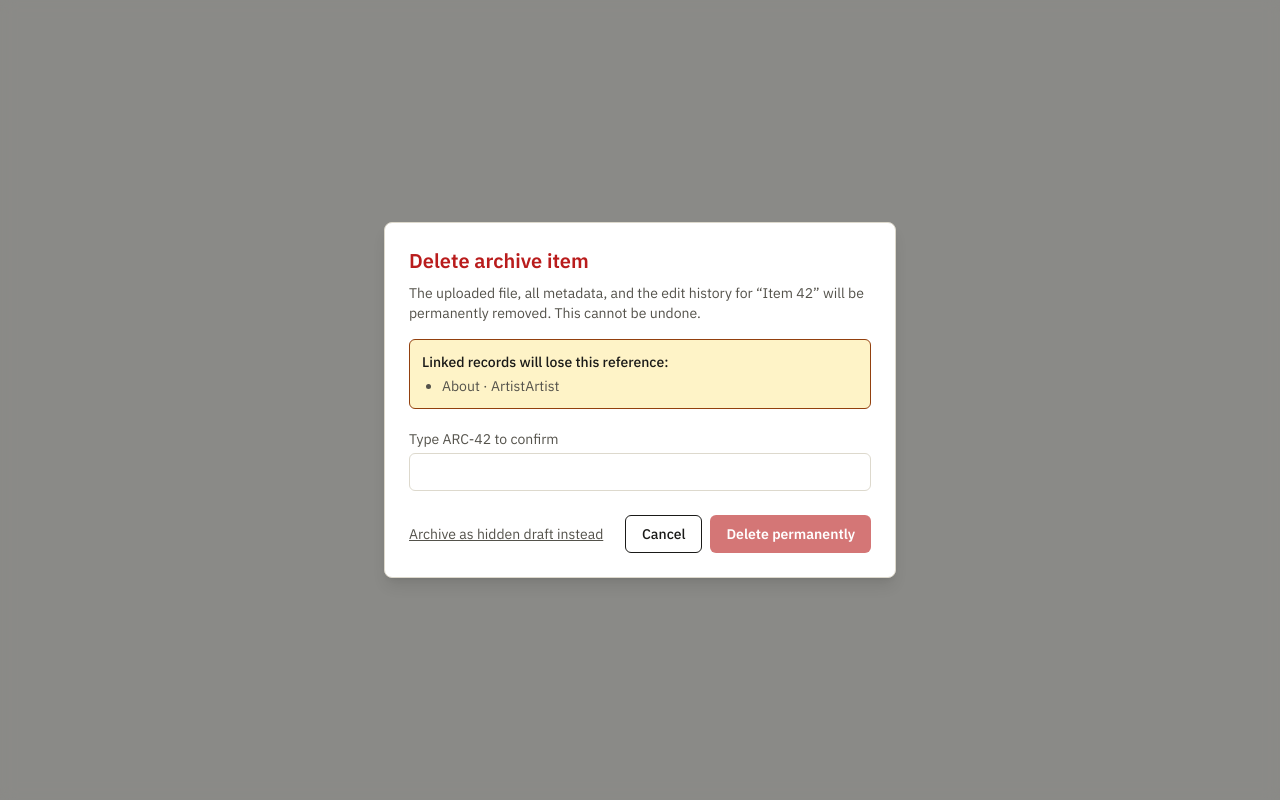
ArchiveDeleteDialog › disables the delete button until the exact legacy_ref is typed
Expected: the button with test id "delete-confirm-button" is disabled, [710, 515, 871, 553]
Step 1. Type "ARC-4" into the field with test id "delete-confirm-input" → (640, 472), box [409, 453, 871, 491]
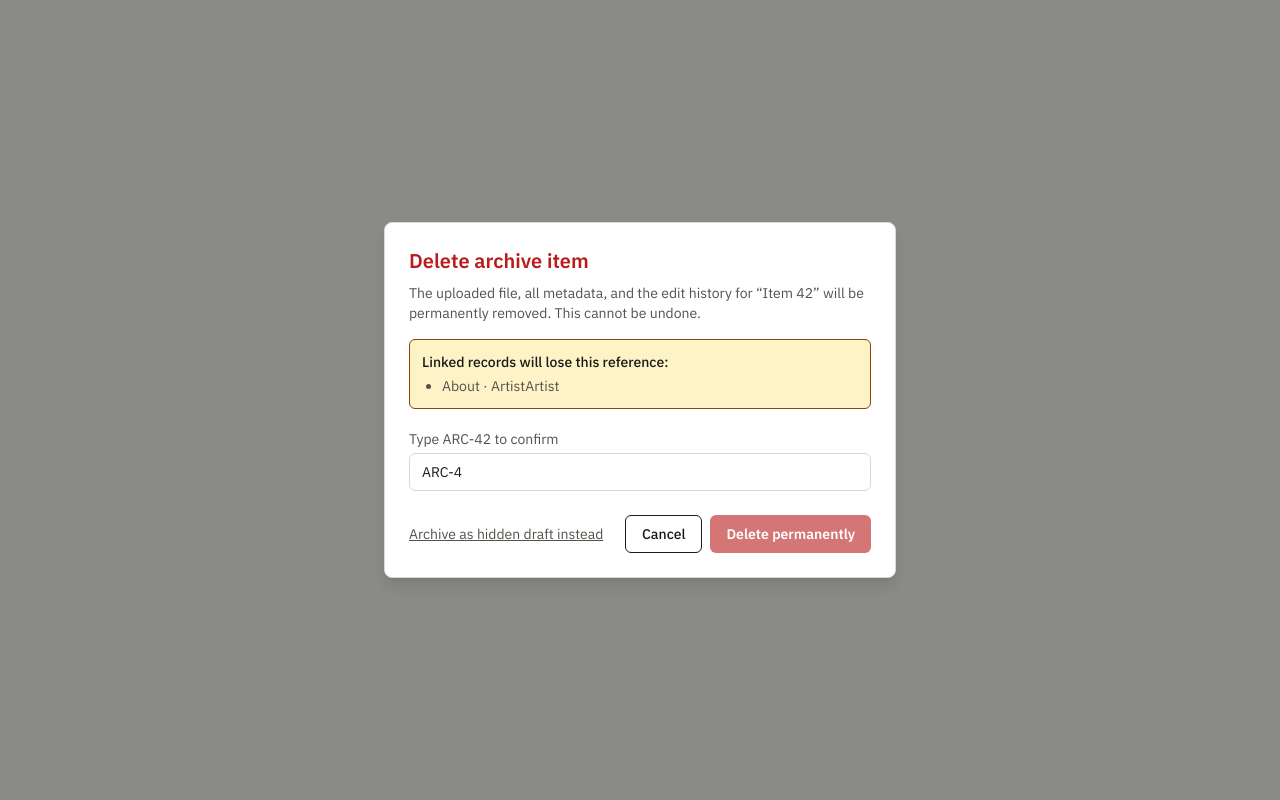
Expected: the button with test id "delete-confirm-button" is disabled, [710, 515, 871, 553]
Step 2. Replace the text in the field with test id "delete-confirm-input" with "ARC-42" → (640, 472), box [409, 453, 871, 491]
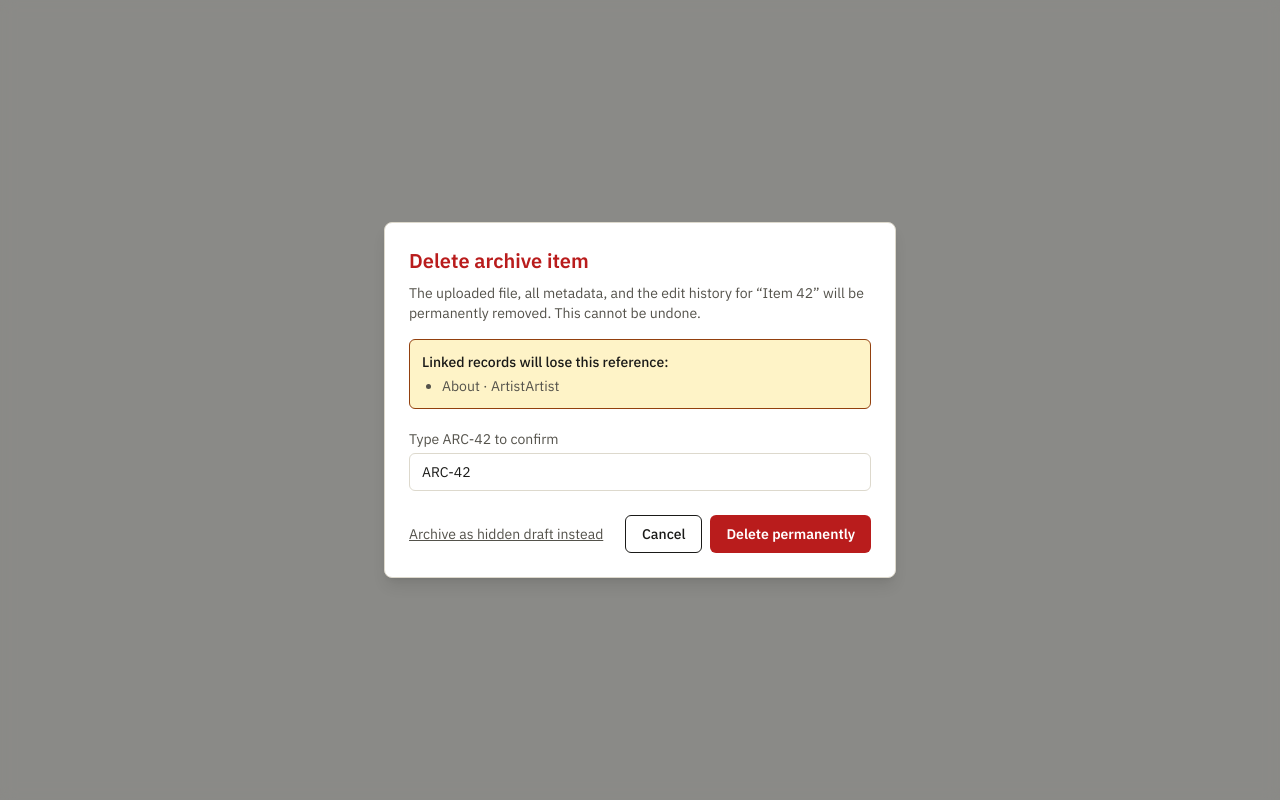
Expected: the button with test id "delete-confirm-button" is enabled, [710, 515, 871, 553]
